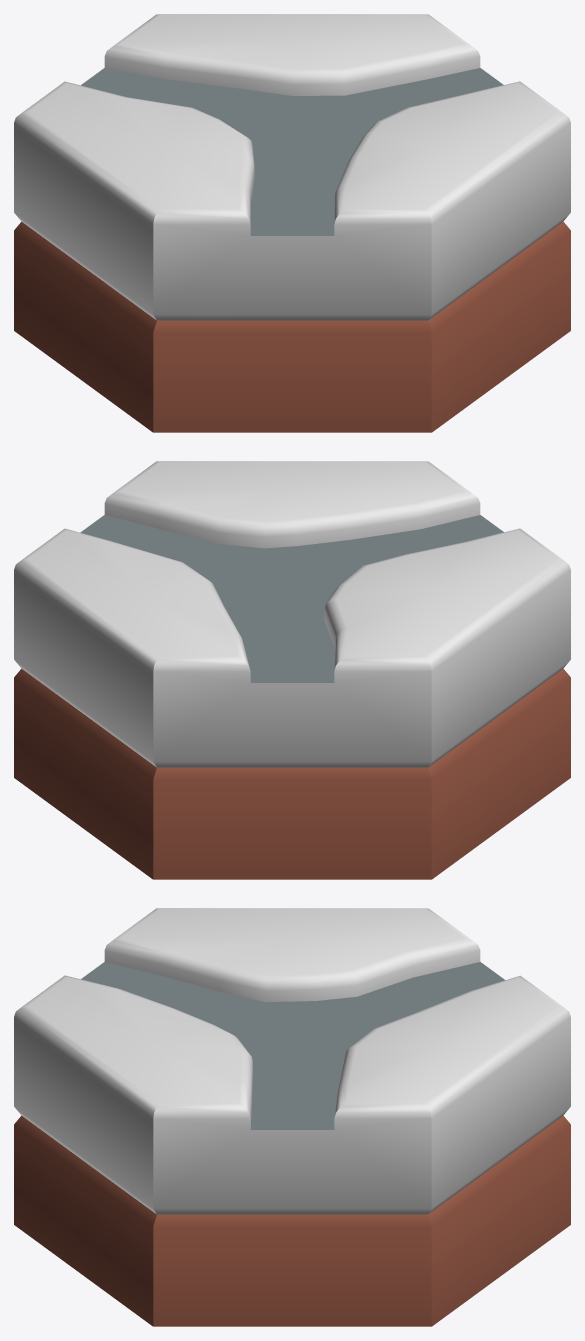
Rendered from hex_snow_roadG_detail.gltf.glb.
3 views of the same model, one above another, from view 1: azimuth 30°, elevation 25°; view 2: azimuth 150°, elevation 25°; view 3: azimuth 270°, elevation 25° (orthographic).
Parts seen in each view (by area): view 1: hex_snow_roadG_detail; view 2: hex_snow_roadG_detail; view 3: hex_snow_roadG_detail.
Boxes of the visible parts, box(x1,y1,x2,y2) form: hex_snow_roadG_detail: box(14, 14, 570, 432); hex_snow_roadG_detail: box(14, 461, 570, 879); hex_snow_roadG_detail: box(14, 908, 570, 1326).
Size of the model in its own units: 2 by 1 by 2.31.
